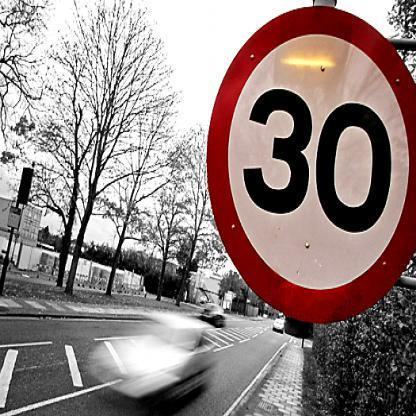Speed Limit 30: (207, 5, 416, 320)
